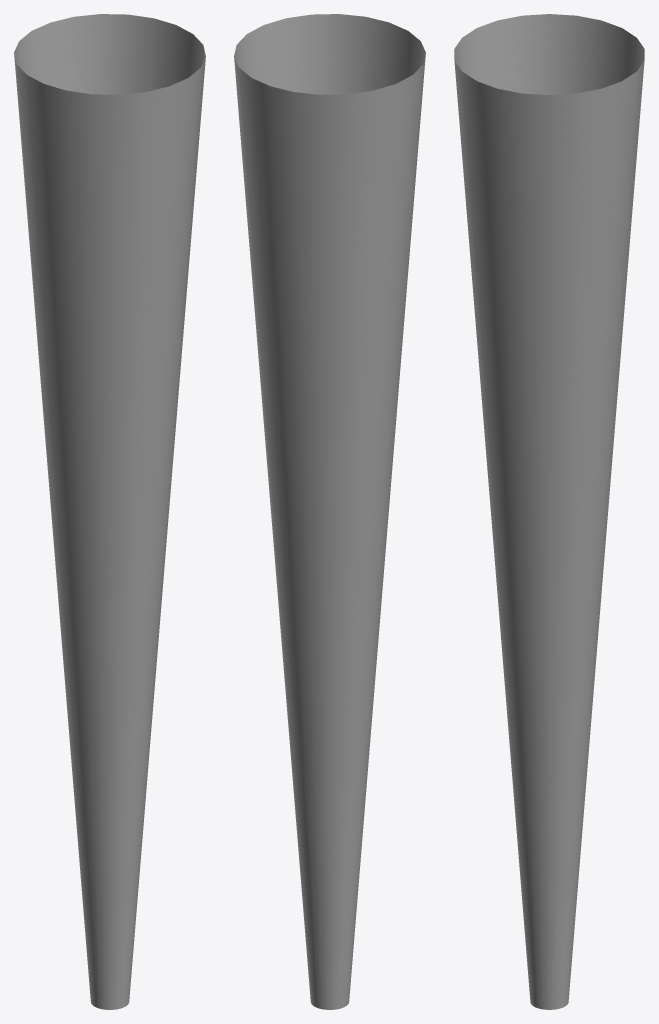
Rendered from light shaft.FBX.
3 renders of one model, left to right at view 1: azimuth 30°, elevation 25°; view 2: azimuth 150°, elevation 25°; view 3: azimuth 270°, elevation 25°, orthographic.
Parts seen in each view (by area): view 1: Cone001; view 2: Cone001; view 3: Cone001.
Part boxes in pixels (bbox=[...]): Cone001: bbox=[14, 14, 205, 1009]; Cone001: bbox=[234, 14, 425, 1009]; Cone001: bbox=[454, 14, 644, 1009].
Bounding box in the file's own units: 18.57 × 101 × 18.38.
1 material, 1 textured.
